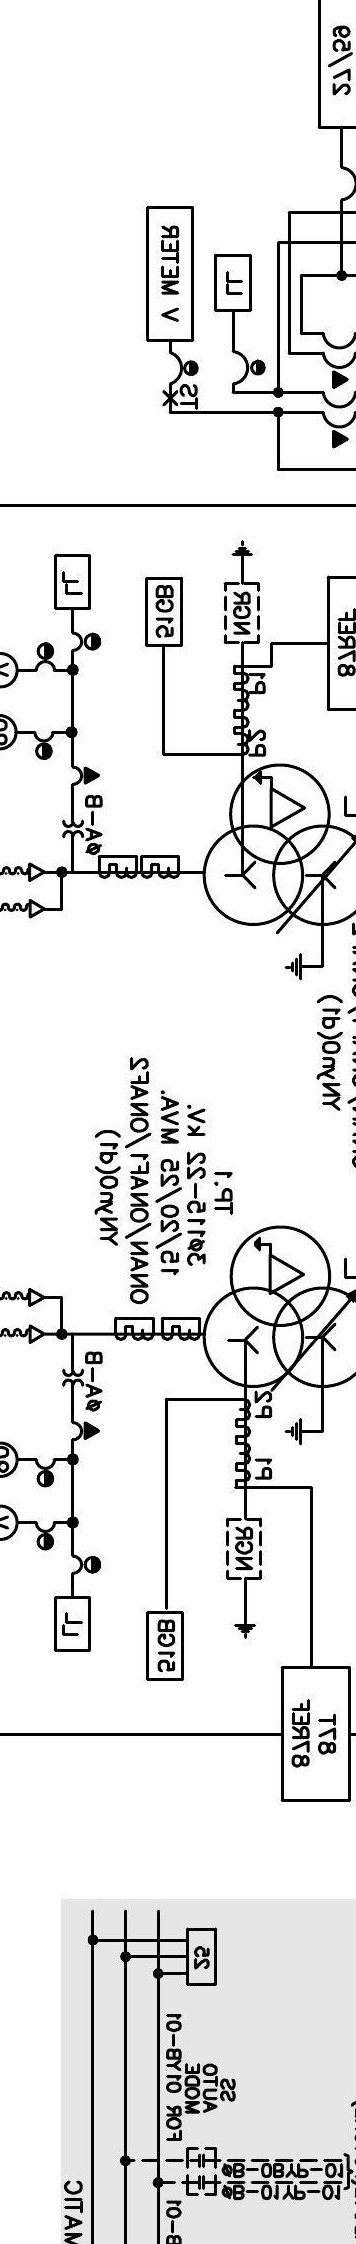LL: (213, 253, 253, 312), (54, 1596, 92, 1653), (54, 554, 92, 611)
NGR_future: (224, 1517, 263, 1640), (223, 540, 260, 645)
terminator_double: (27, 1288, 64, 1345), (27, 862, 64, 919)
v_m_digital: (144, 205, 194, 343)
